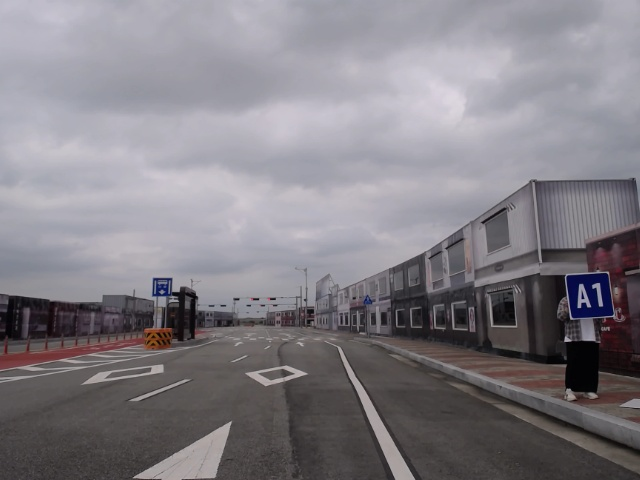delivery_a1: (565, 272, 614, 320)
